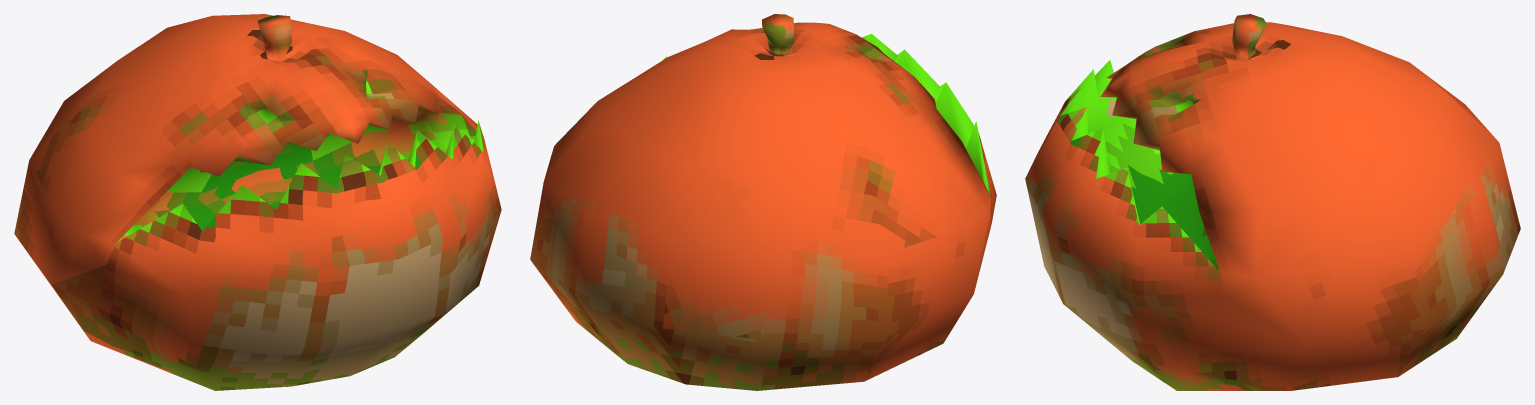
File: crate-darkeco-lod0.glb
3 views of the same model, side by side, from view 1: azimuth 30°, elevation 25°; view 2: azimuth 150°, elevation 25°; view 3: azimuth 270°, elevation 25° (orthographic). The views are drawn at different scales.
Visible parts, largest first — view 1: PumpkinBomb; view 2: PumpkinBomb; view 3: PumpkinBomb.
Boxes of the visible parts, x1,y1,x2,y2 form: PumpkinBomb: (14,14,501,390); PumpkinBomb: (530,14,996,390); PumpkinBomb: (1025,14,1520,390).
Size of the model in its own units: 3.3 by 2.48 by 3.35.
Materials: 1 (1 with a texture image).
